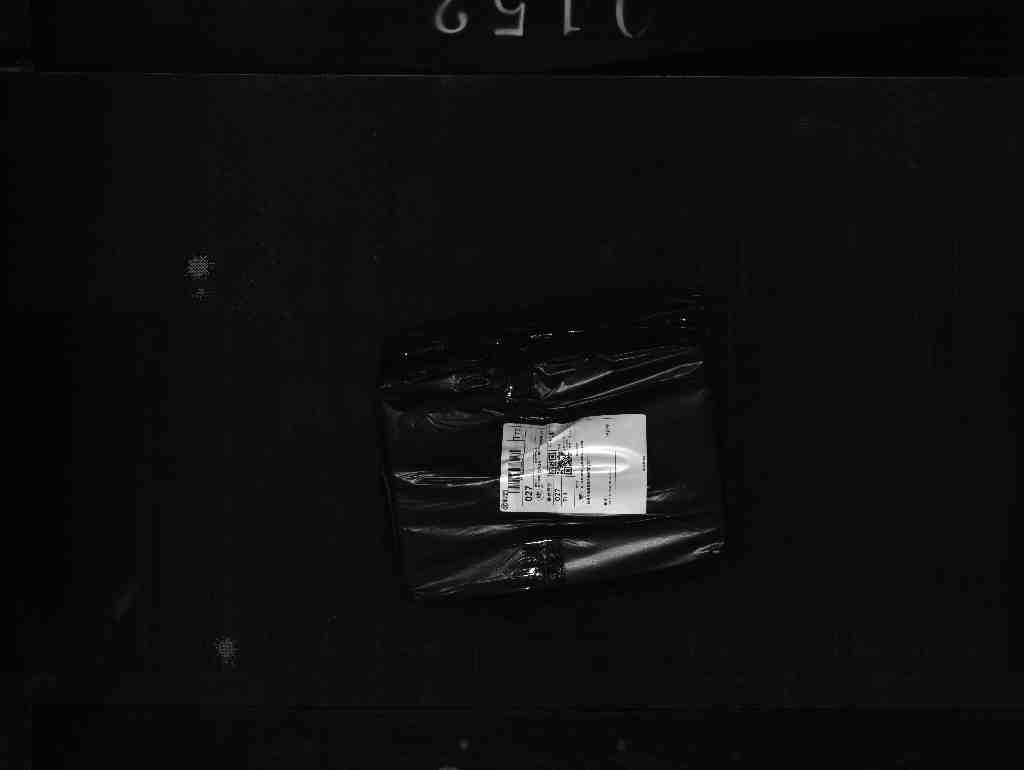box: (372, 321, 753, 607)
